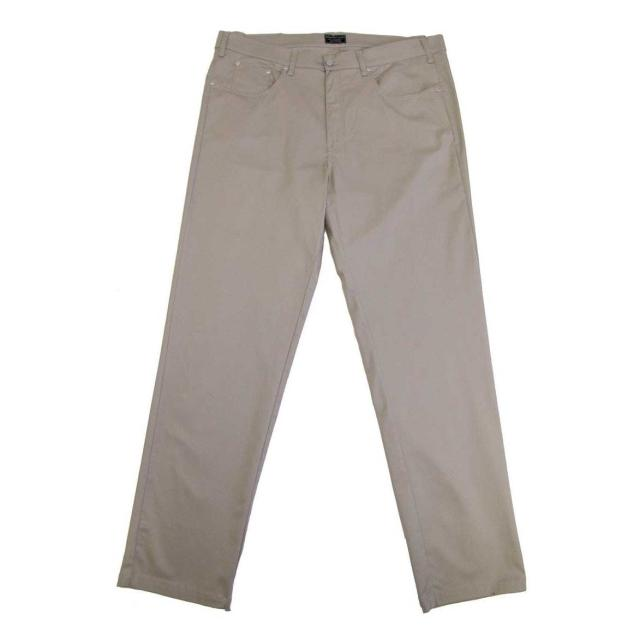long-pants: (119, 24, 526, 612)
